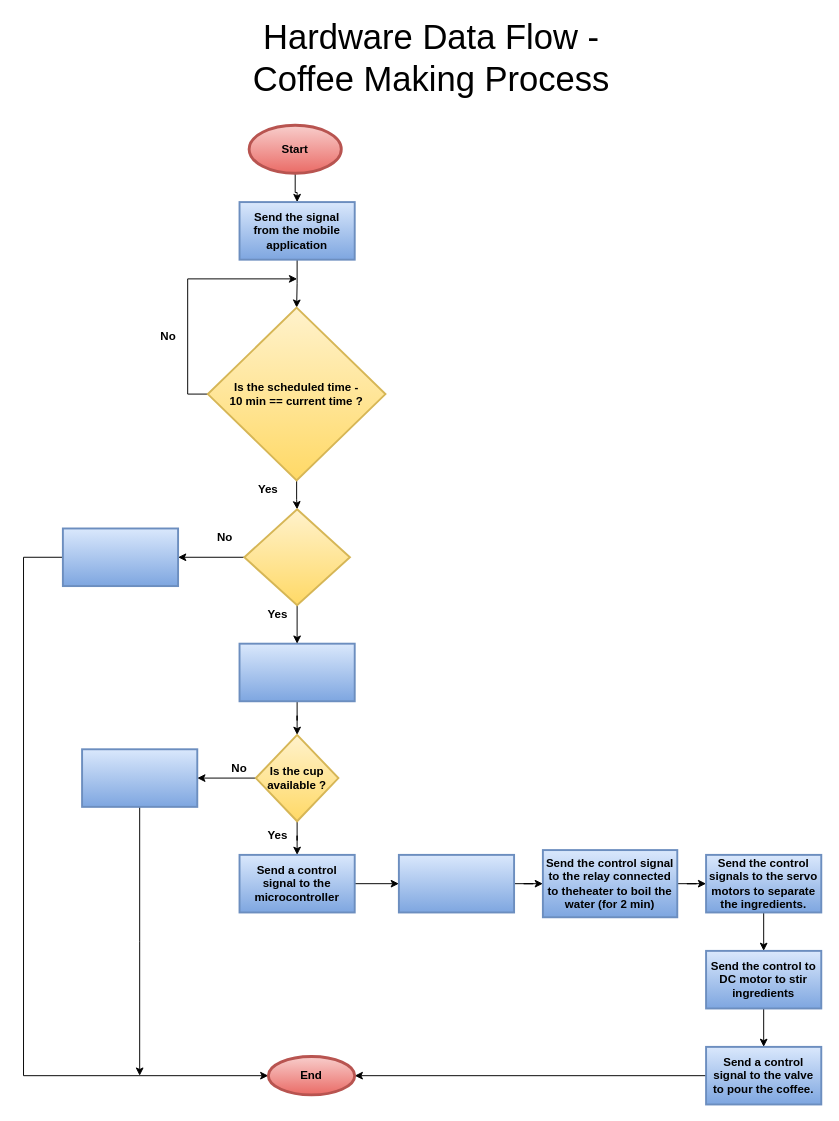
This 839x1121 diagram has some shape labels left out. Each missing label, with the box of its shape:
Is machine connected to the power?: (243, 508, 350, 606)
Send a signal to mobile application ('Machine is offline, please power it'): (61, 527, 179, 587)
Send a signal to the mobile Application ('The cup is unavailable'): (81, 748, 198, 807)
Send the control signal to the reflective optical sensor.: (238, 642, 355, 702)
Send the control signal to the valve of the water stored container: (397, 853, 515, 913)
